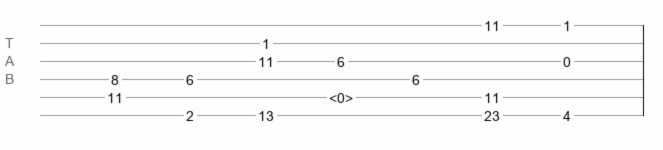0: (563, 54, 571, 64)
1: (262, 36, 270, 46), (563, 18, 571, 28)
11: (107, 90, 123, 100), (258, 54, 274, 64), (484, 90, 500, 100), (484, 18, 500, 28)
13: (258, 108, 274, 118)
2: (186, 108, 194, 118)
23: (484, 108, 500, 118)
4: (563, 108, 571, 118)
6: (186, 72, 194, 82), (337, 54, 345, 64), (412, 72, 420, 82)
8: (111, 72, 119, 82)
harmonic: (329, 90, 353, 100)
